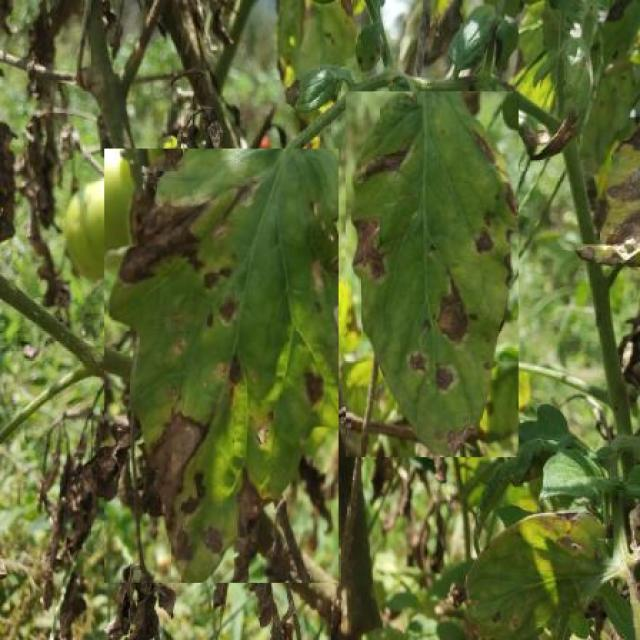Early Blight: (104, 148, 339, 583), (346, 92, 518, 457)
